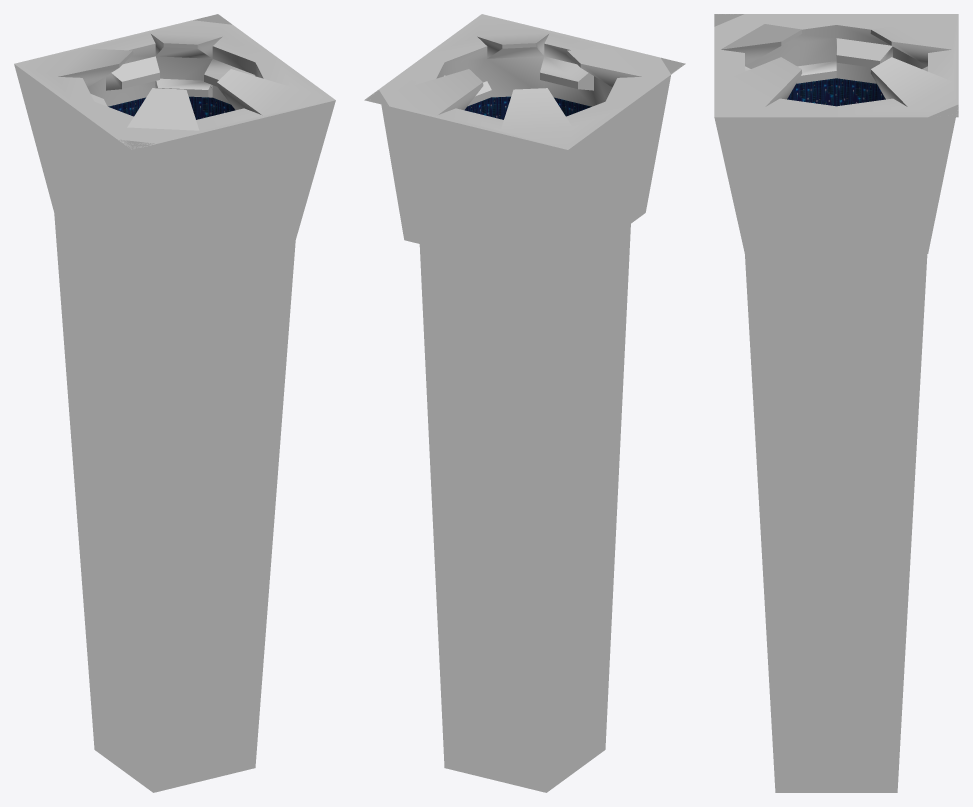
File: desmlhc2.fbx
3 views of the same model, side by side, from view 1: azimuth 30°, elevation 25°; view 2: azimuth 150°, elevation 25°; view 3: azimuth 270°, elevation 25° (orthographic). The views are drawn at different scales.
Parts seen in each view (by area): view 1: terrain__h, desmlh01; view 2: terrain__h, desmlh01; view 3: terrain__h, desmlh01.
Part boxes in pixels (<box>): terrain__h: <box>14,14,335,792</box>; desmlh01: <box>14,20,335,149</box>; terrain__h: <box>364,57,685,792</box>; desmlh01: <box>366,14,682,149</box>; terrain__h: <box>714,14,958,792</box>; desmlh01: <box>714,14,958,117</box>.
Size of what is drawn, in the model's own units: 64 by 208 by 64.
